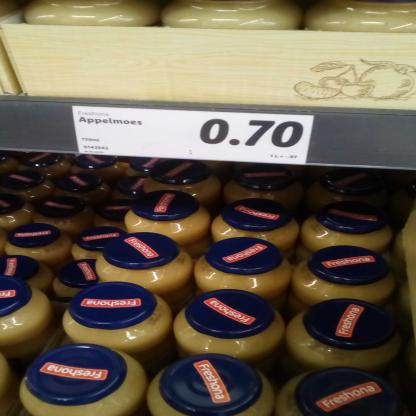prtg: (73, 107, 315, 166)
